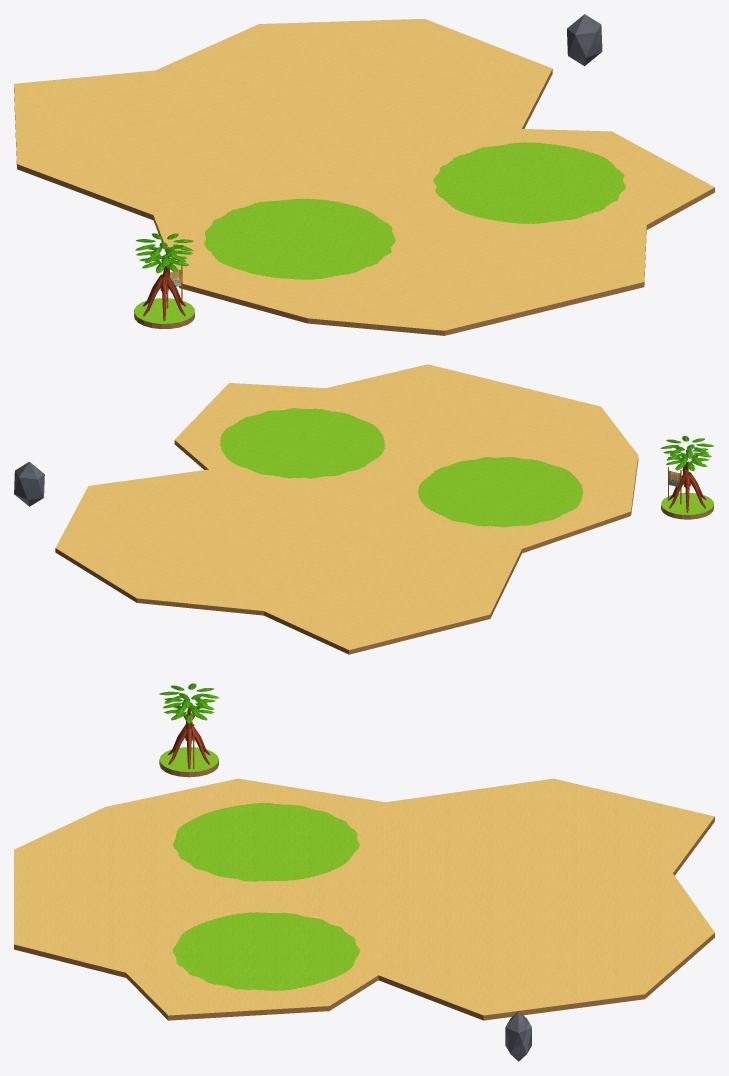
Rendered from surface-14-0eNCvxcu.glb.
3 renders of one model, top to bottom at view 1: azimuth 30°, elevation 25°; view 2: azimuth 150°, elevation 25°; view 3: azimuth 270°, elevation 25°, orthographic. The views are drawn at different scales.
Parts seen in each view (by area): view 1: HI_Surface_14, FLC_Regions_14, HI_Mangrove, HI_BasaltOutcrop.003, HI_SceneryIslet_0.003; view 2: HI_Surface_14, FLC_Regions_14, HI_Mangrove, HI_BasaltOutcrop.003, HI_SceneryIslet_0.003; view 3: HI_Surface_14, FLC_Regions_14, HI_Mangrove, HI_SceneryIslet_0.003, HI_BasaltOutcrop.003.
Boxes of the visible parts, x1,y1,x2,y2 form: HI_Surface_14: (14,18,714,335); FLC_Regions_14: (204,142,625,279); HI_Mangrove: (135,233,193,320); HI_BasaltOutcrop.003: (567,14,602,66); HI_SceneryIslet_0.003: (134,298,194,328); HI_Surface_14: (55,364,638,654); FLC_Regions_14: (220,408,582,527); HI_Mangrove: (660,435,714,512); HI_BasaltOutcrop.003: (14,461,44,506); HI_SceneryIslet_0.003: (661,492,713,519); HI_Surface_14: (14,778,714,1020); FLC_Regions_14: (172,803,359,990); HI_Mangrove: (159,683,219,769); HI_SceneryIslet_0.003: (159,747,218,777); HI_BasaltOutcrop.003: (505,1011,531,1061).
Bounding box in the file's own units: 40.58 × 5.62 × 40.
8 materials, 7 textured.
